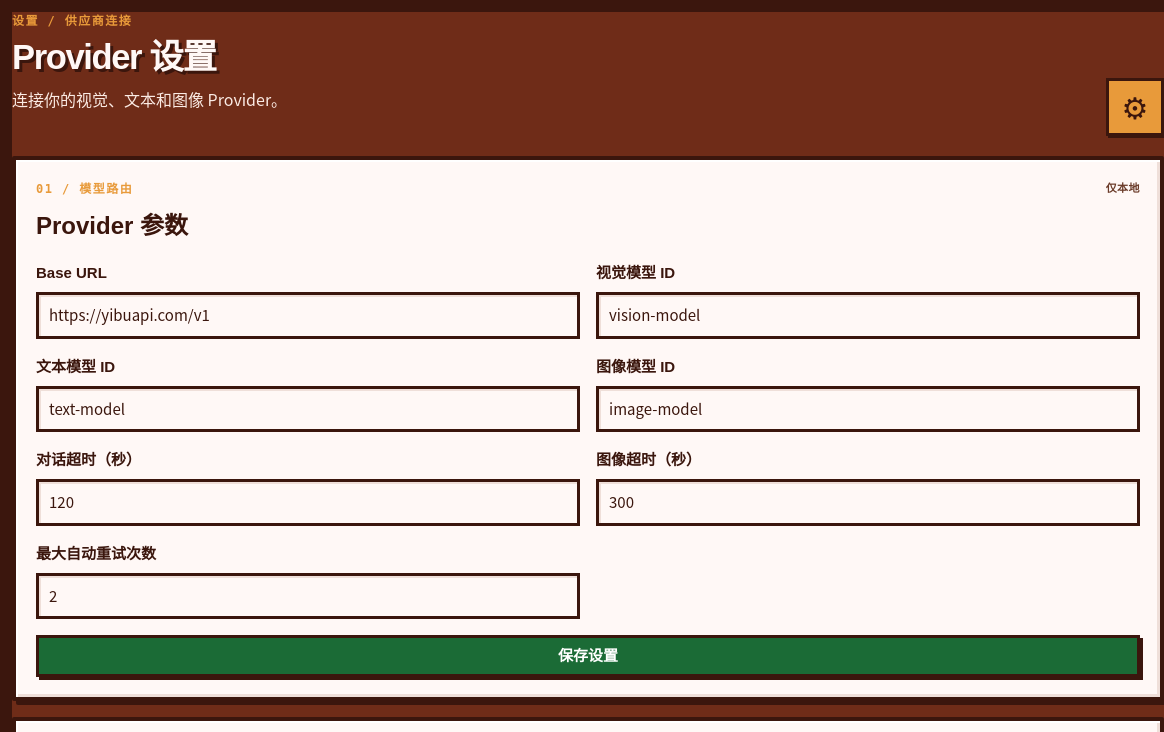
Test case: settings page › validates the form and rejects an invalid base URL without PUT
Replace the text in the field labelled "Base URL" with "not-a-url" at (308, 316), box [36,292,580,339]
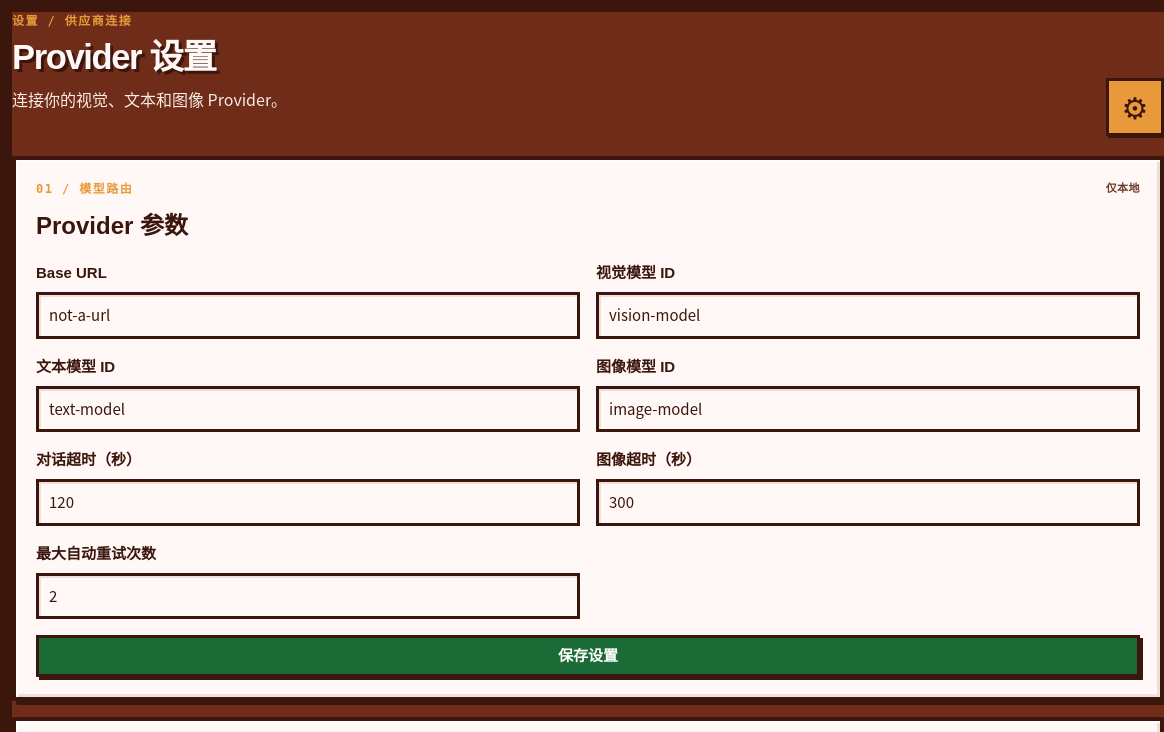
Click the button "保存设置" at (588, 656), box [36,635,1140,677]
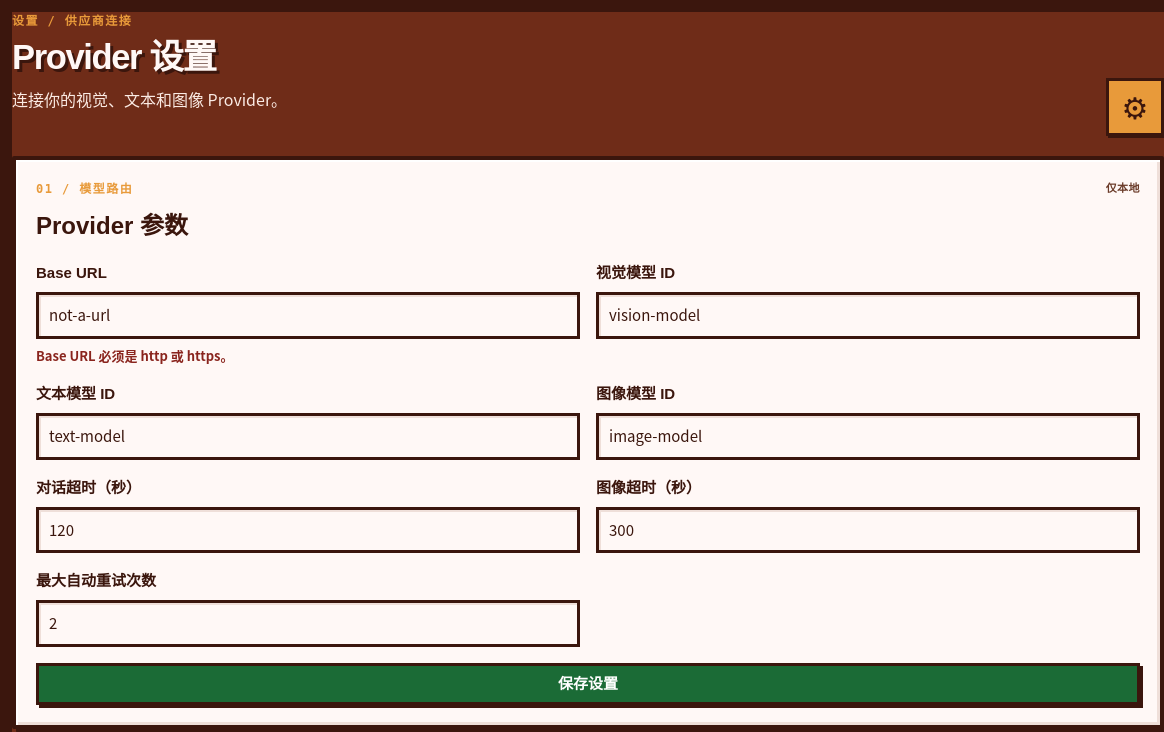
Expected: the message "Base URL 必须是 http 或 https。" is shown, [36,346,233,365]
